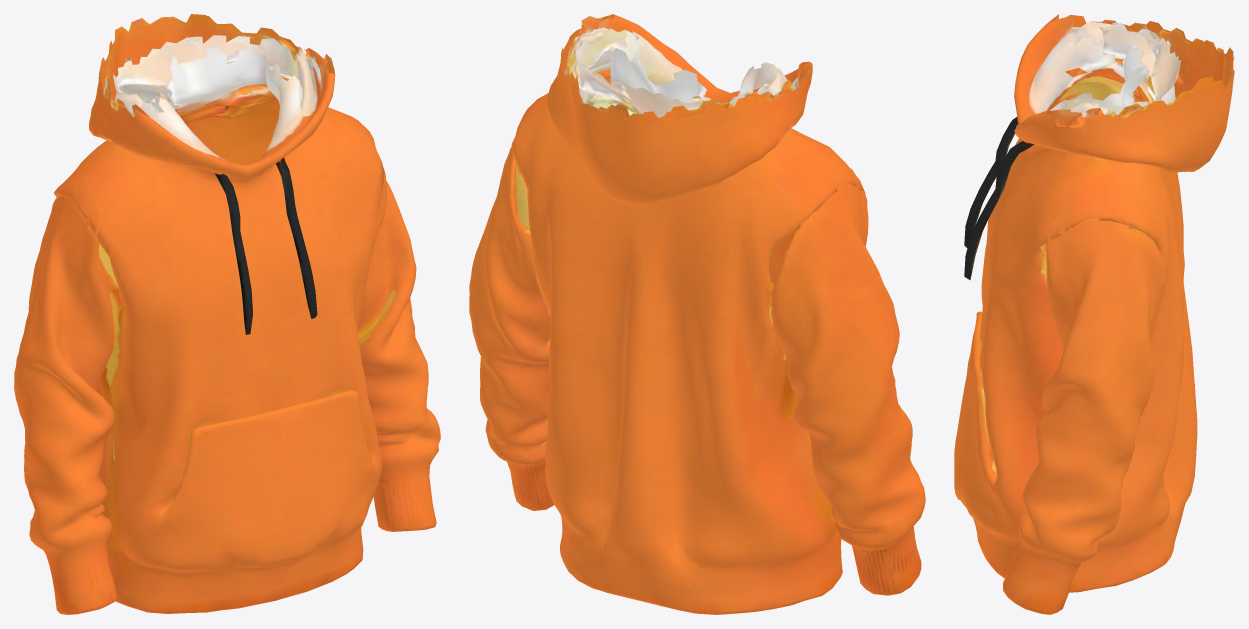
3 renders of one model, left to right at view 1: azimuth 30°, elevation 25°; view 2: azimuth 150°, elevation 25°; view 3: azimuth 270°, elevation 25°, orthographic. The views are drawn at different scales.
Size of the model in its own units: 0.6116 by 0.72 by 0.3812.
1 material, 1 textured.
